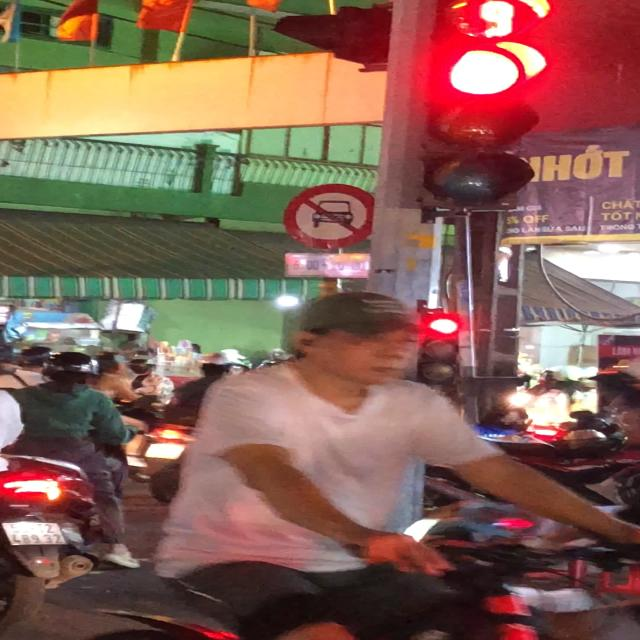Bien bao cam xe oto: (283, 182, 382, 252)
